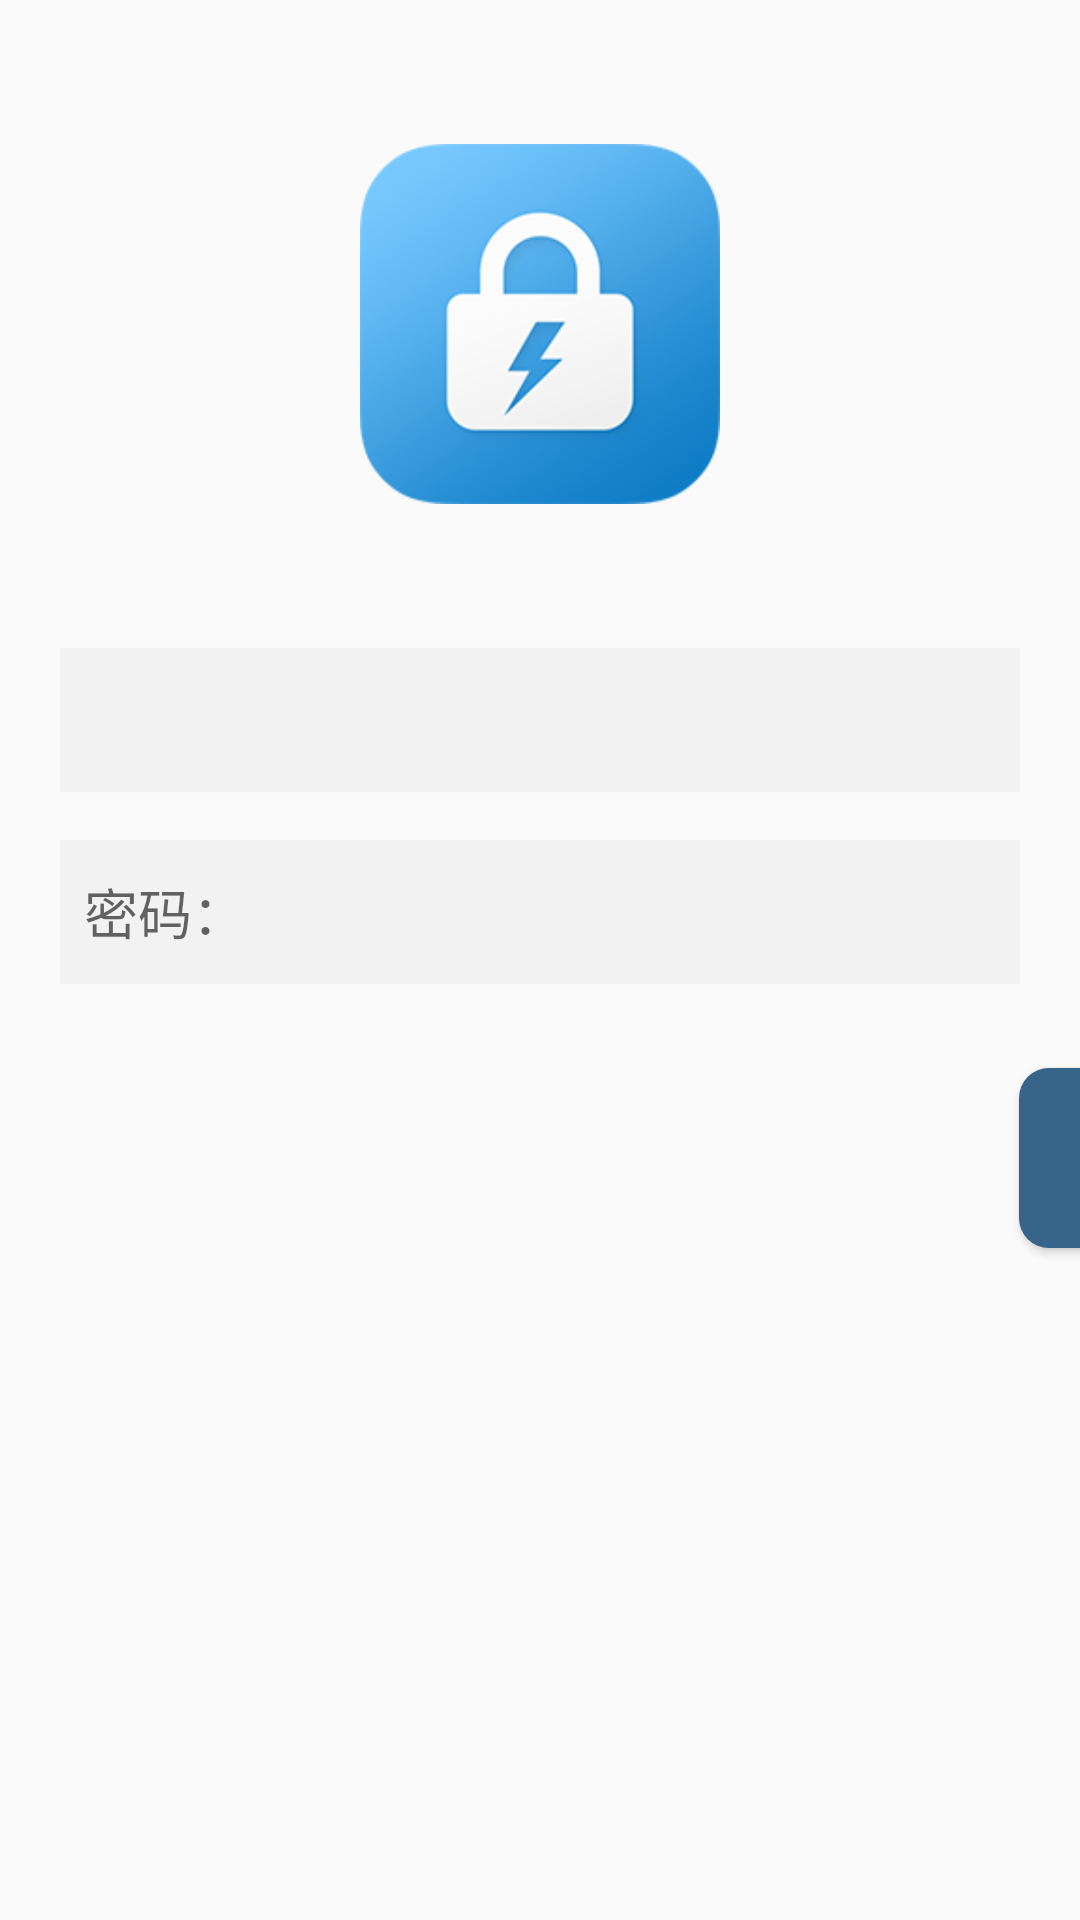

Named icons in this screenshot (1080*1920) and their centers, point (x, y):
lock screen: point (540, 324)
